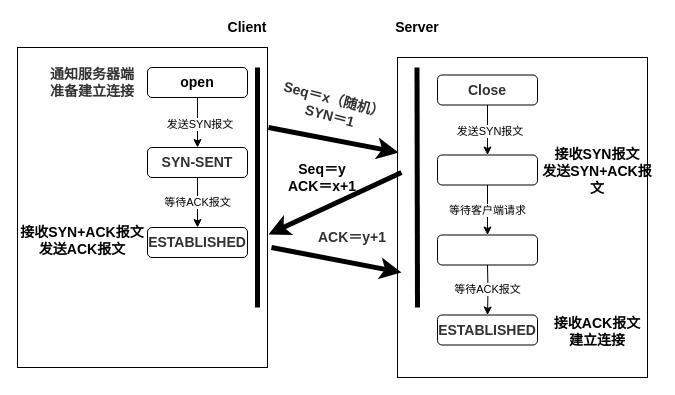
This 675x395 diagram has some shape labels left out. Each missing label, with the centre of its shape:
LISTEN: point (487, 169)
SYN-RCVD: point (487, 249)
